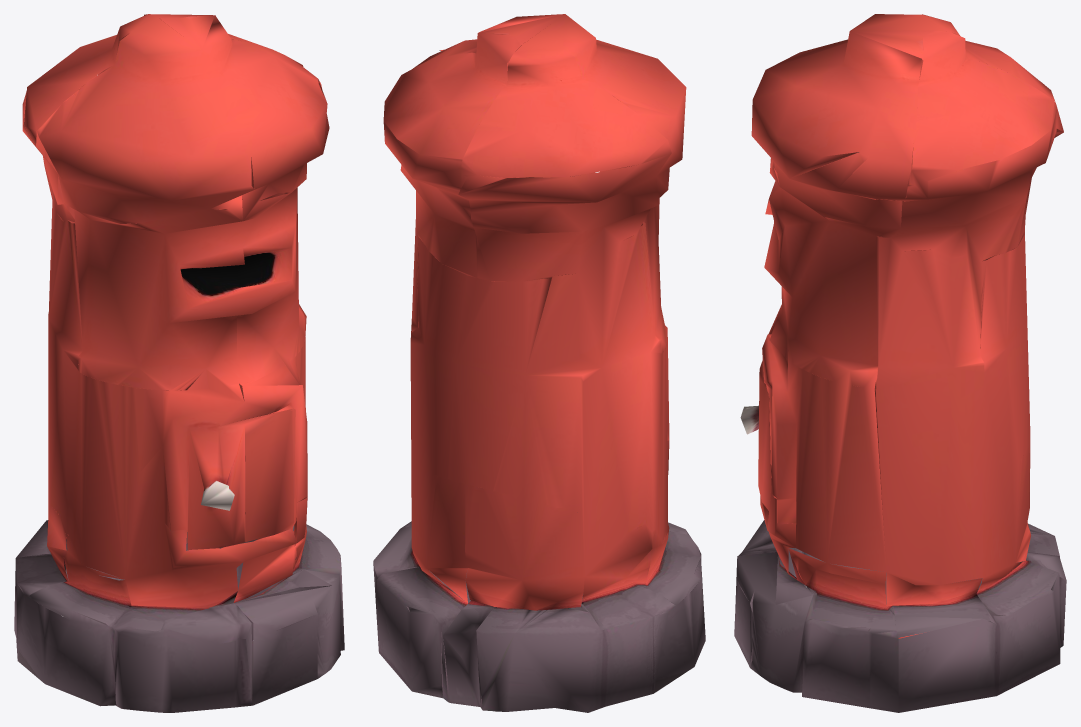
File: M-5_03_mailbox.glb
3 views of the same model, side by side, from view 1: azimuth 30°, elevation 25°; view 2: azimuth 150°, elevation 25°; view 3: azimuth 270°, elevation 25° (orthographic).
Visible parts, largest first — view 1: mailbox; view 2: mailbox; view 3: mailbox.
Part boxes in pixels (<box>): mailbox: <box>14,14,344,712</box>; mailbox: <box>373,14,705,712</box>; mailbox: <box>734,14,1066,712</box>.
Size of the model in its own units: 0.9957 by 2.01 by 0.9856.
1 material, 1 textured.
